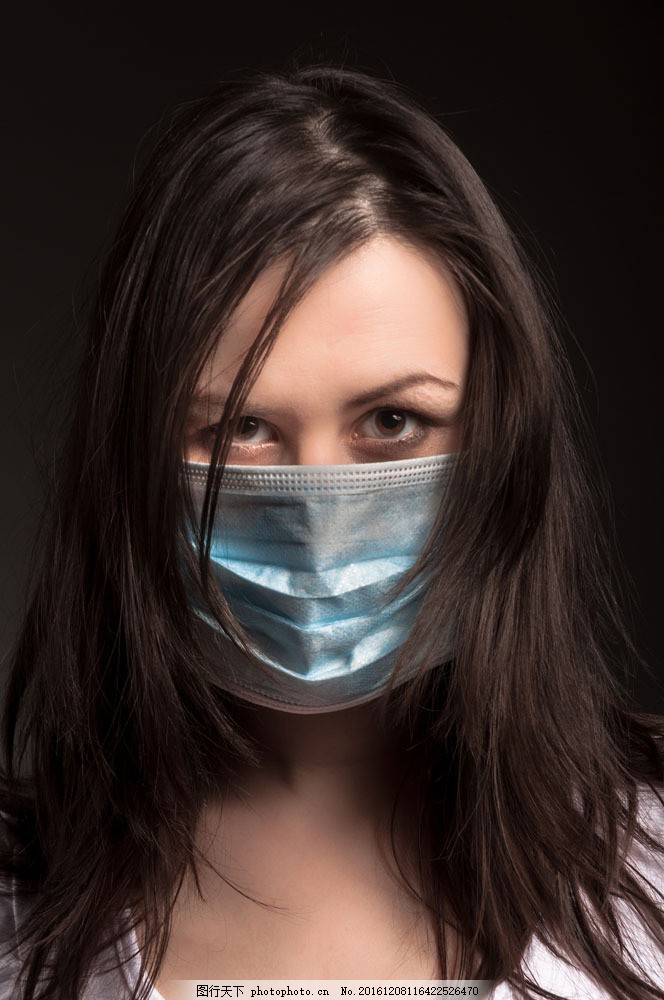mask: (168, 459, 475, 714)
